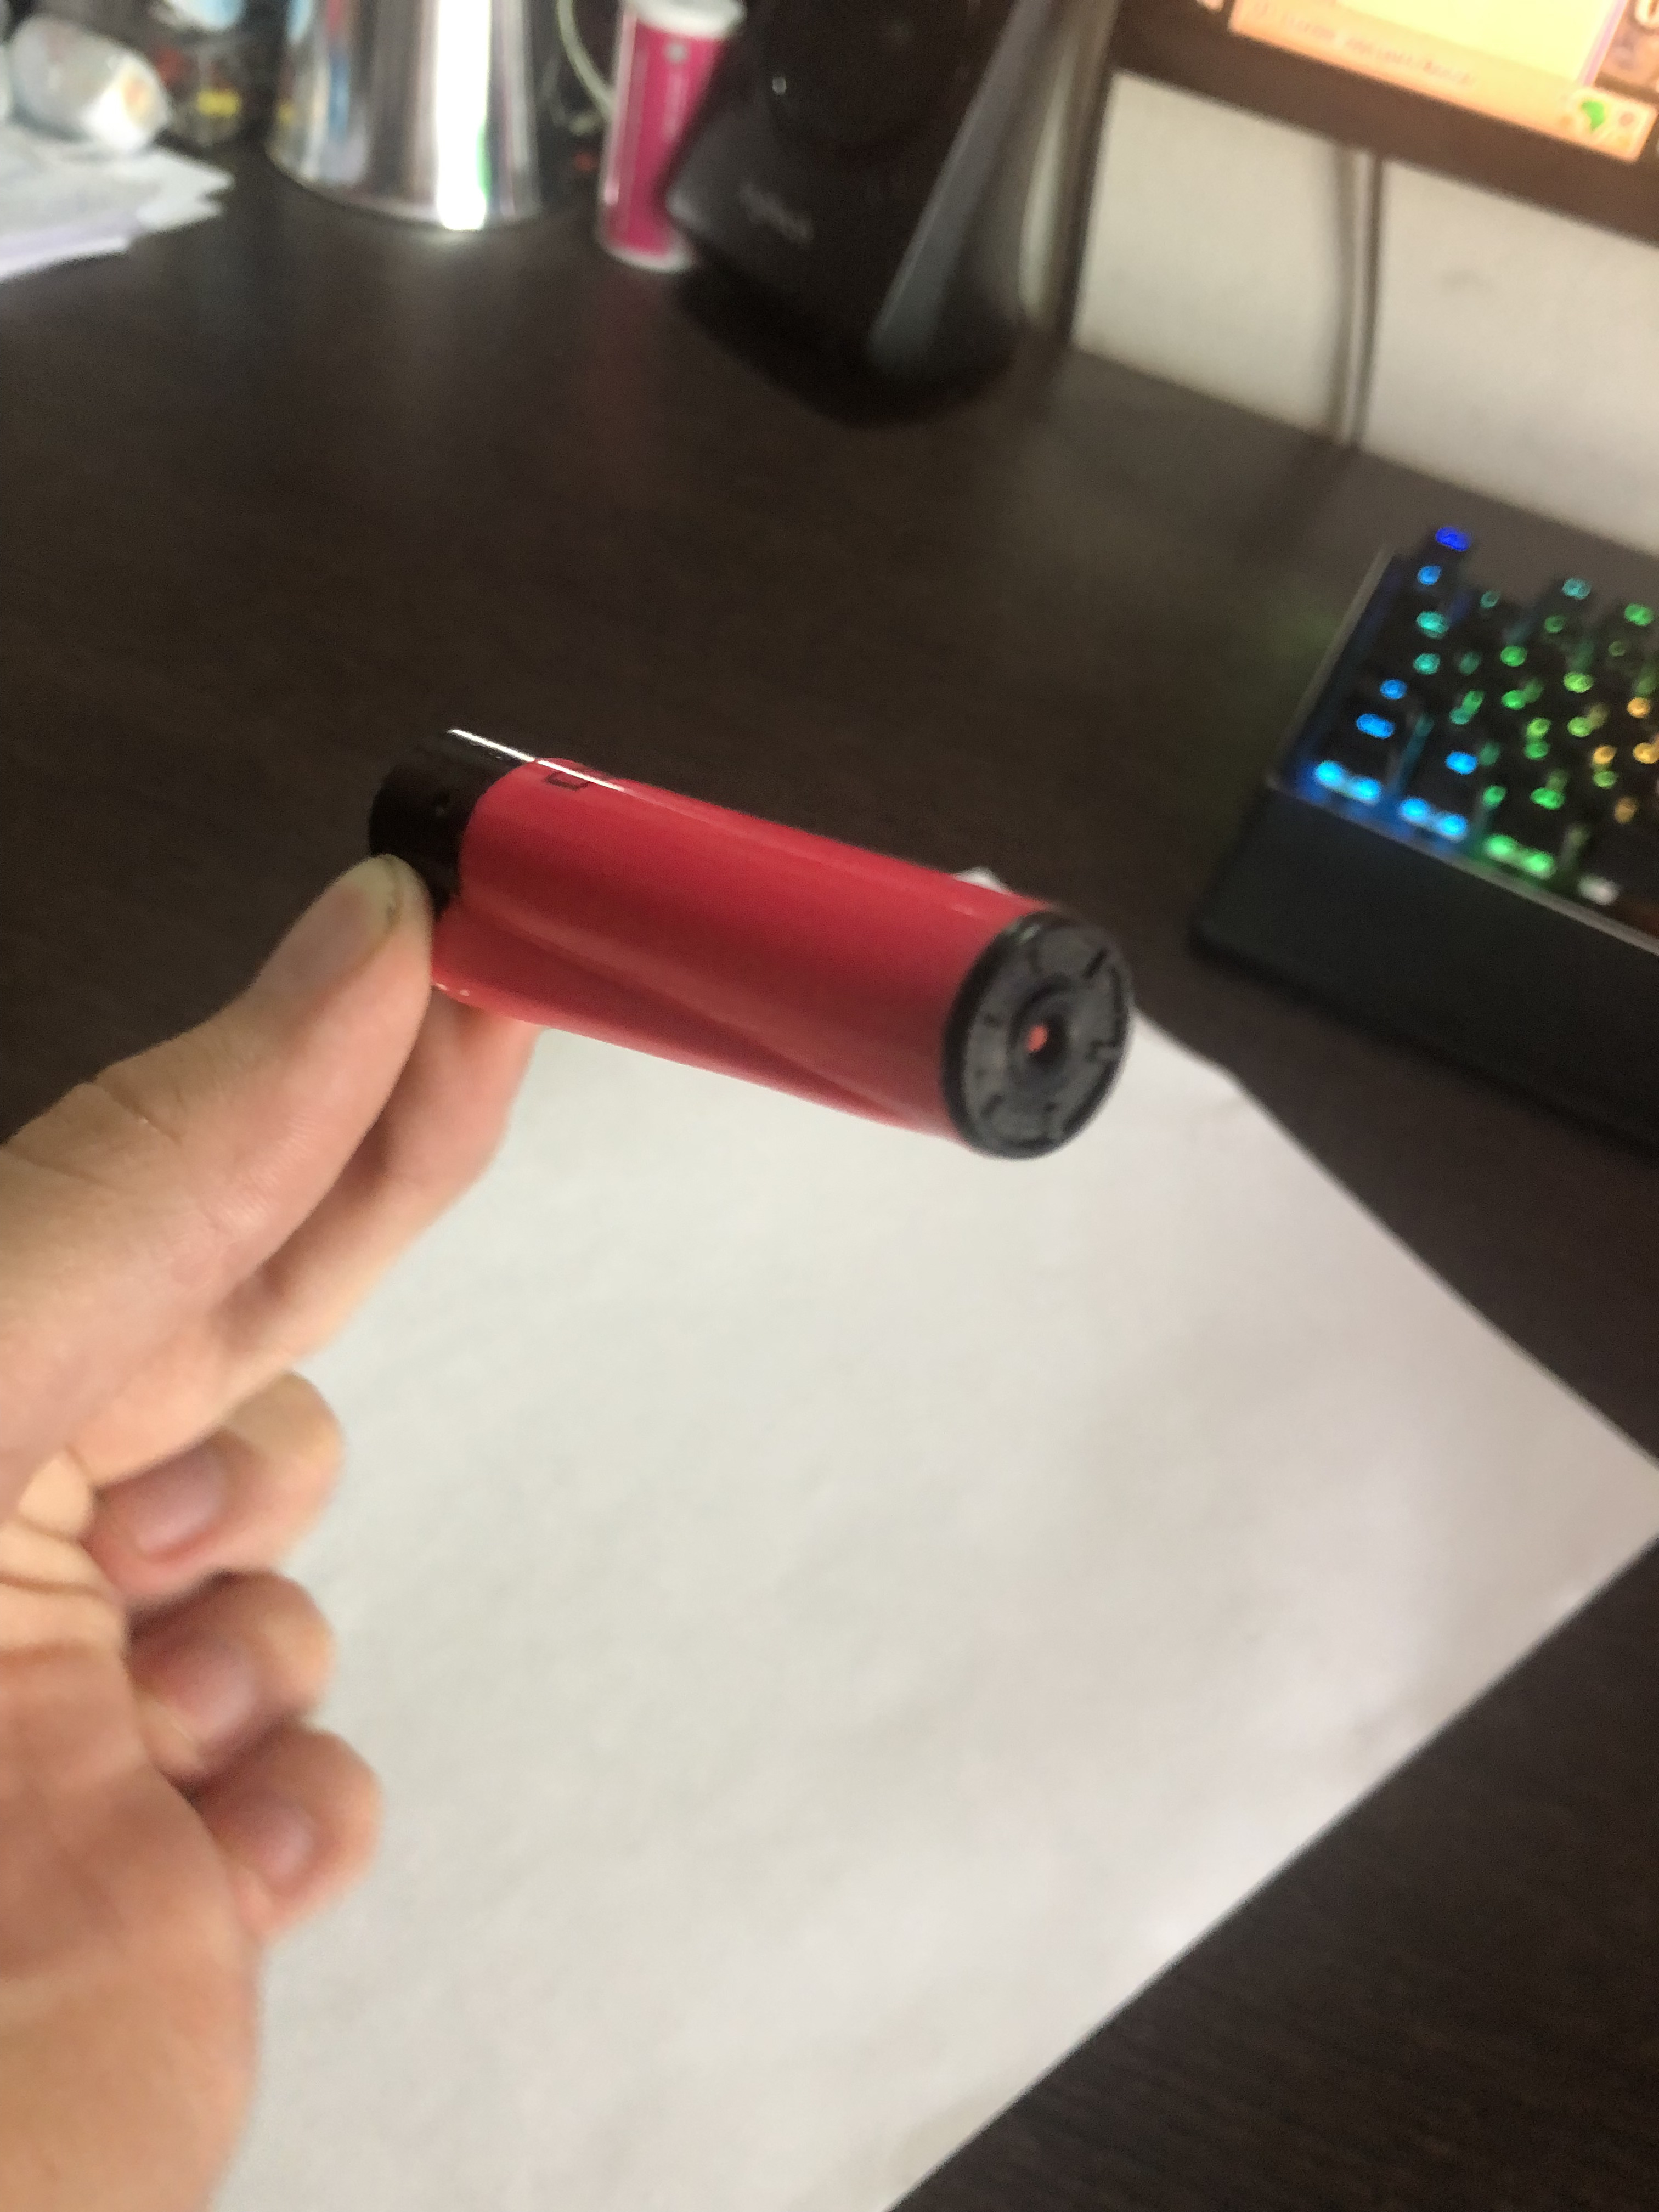Mechero: (354, 698, 1134, 1183)
